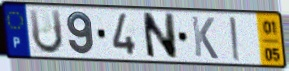4: (110, 12, 139, 59)
9: (64, 9, 96, 57)
I: (228, 15, 243, 63)
K: (189, 14, 220, 61)
N: (140, 10, 179, 60)
U: (26, 8, 65, 57)
